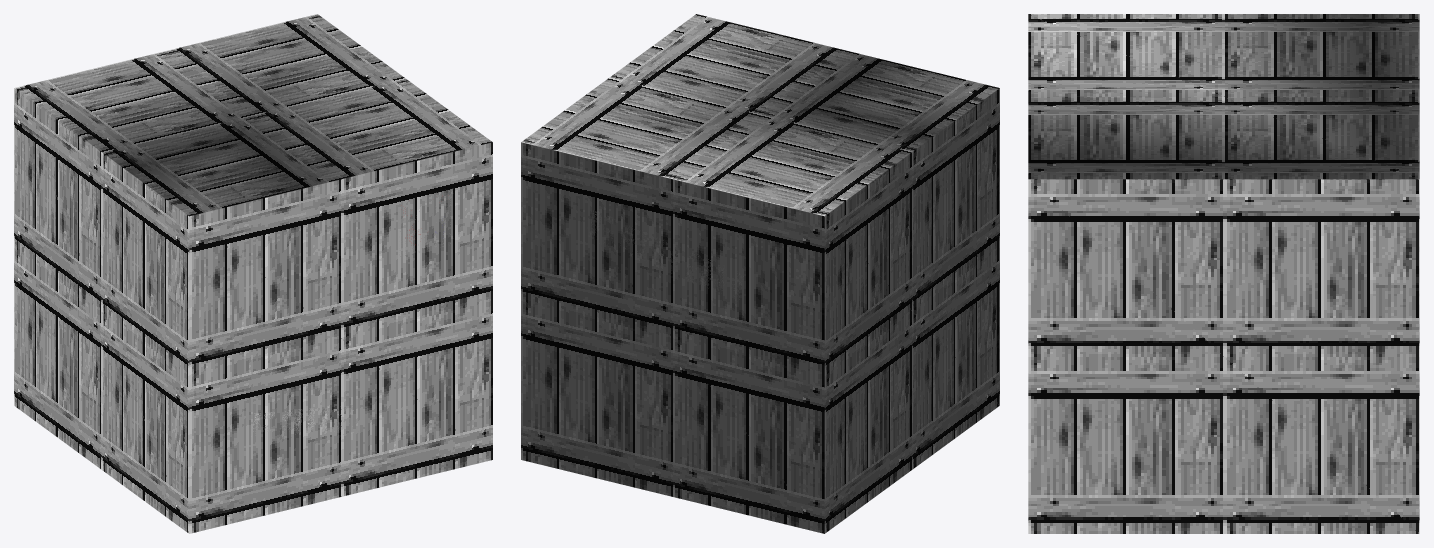
The model's file is Pwood_lg_crate1Z.obj.
3 views of the same model, side by side, from view 1: azimuth 30°, elevation 25°; view 2: azimuth 150°, elevation 25°; view 3: azimuth 270°, elevation 25° (orthographic). The views are drawn at different scales.
Bounding box in the file's own units: 1166 × 1166 × 1166.
Materials: 3 (3 with a texture image).
